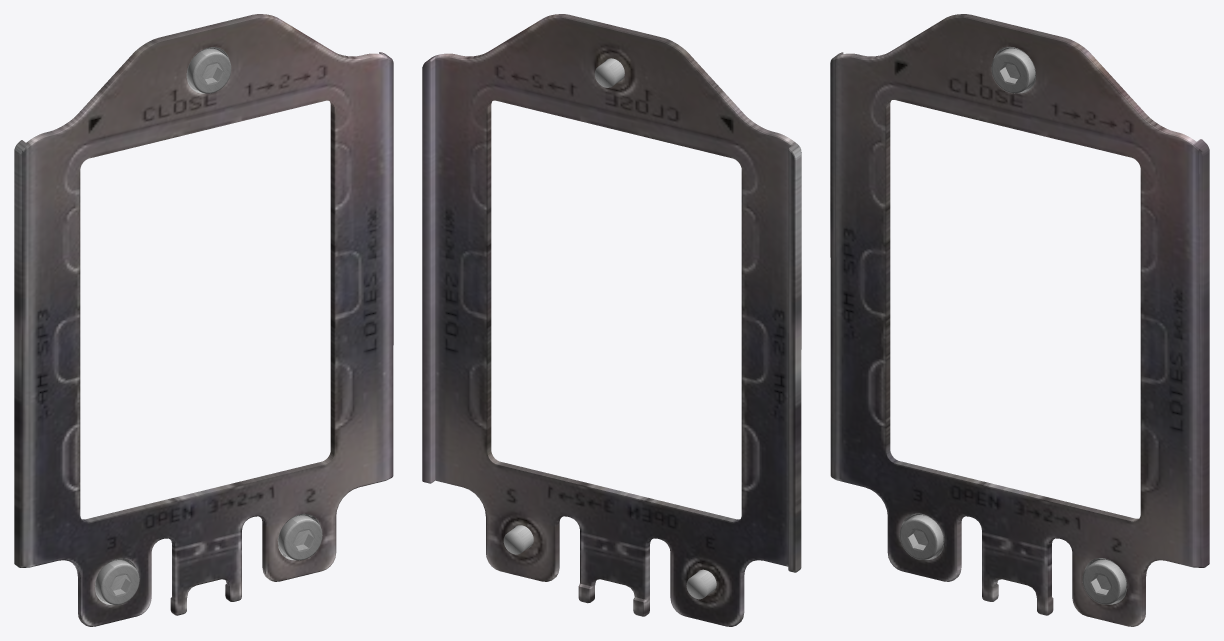
Rendered from krytnacpu.glb.
3 renders of one model, left to right at view 1: azimuth 30°, elevation 25°; view 2: azimuth 150°, elevation 25°; view 3: azimuth 330°, elevation 25°, orthographic.
Parts seen in each view (by area): view 1: TR4_Sockel_deckel; view 2: TR4_Sockel_deckel; view 3: TR4_Sockel_deckel.
Boxes of the visible parts, left/top/right/bottom form: TR4_Sockel_deckel: left=14, top=14, right=393, bottom=626; TR4_Sockel_deckel: left=422, top=14, right=801, bottom=626; TR4_Sockel_deckel: left=830, top=14, right=1209, bottom=626.
Size of the model in its own units: 0.082 by 0.1214 by 0.00637.
Materials: 3 (3 with a texture image).
